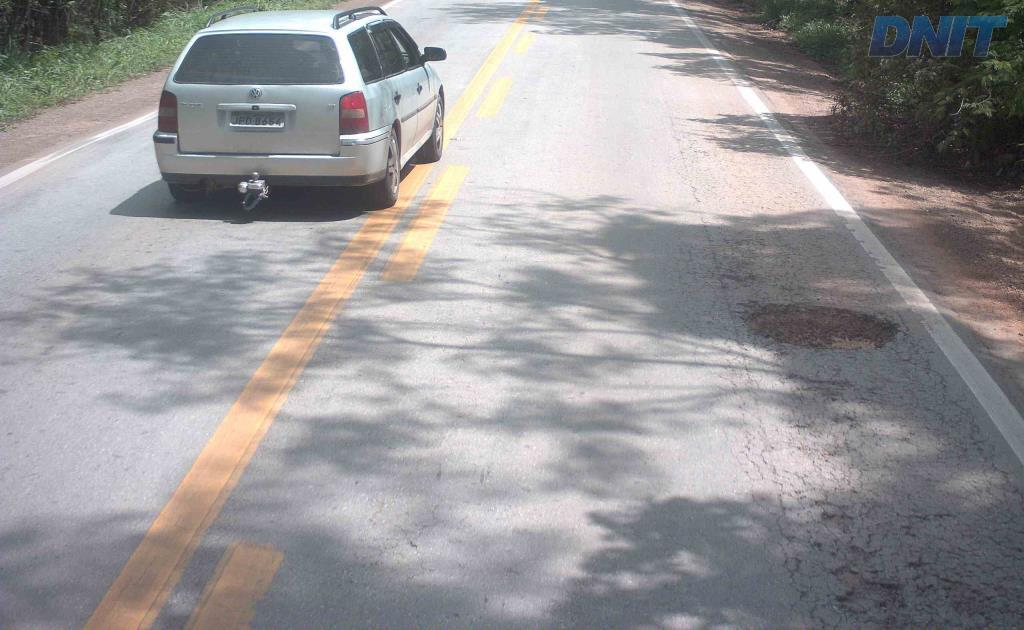pothole: (744, 291, 899, 373)
